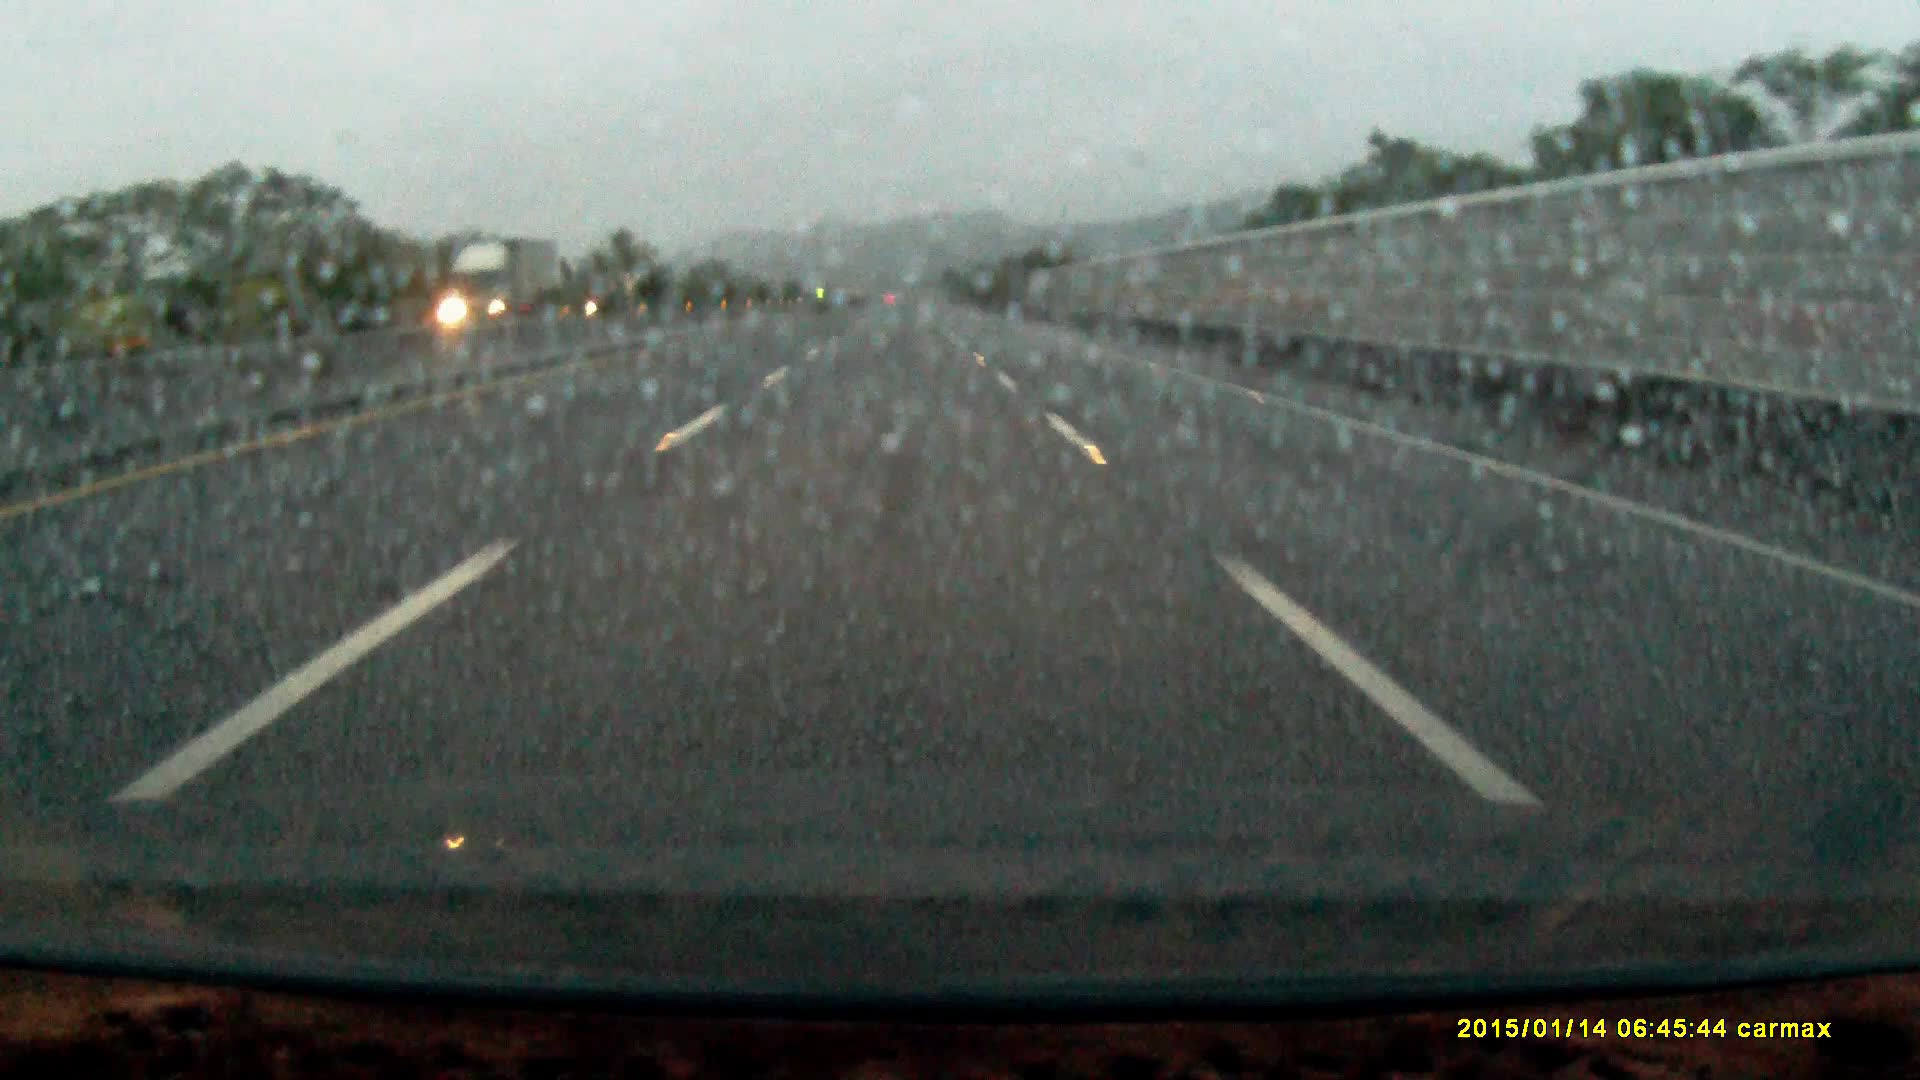vehicle: (439, 240, 564, 319)
